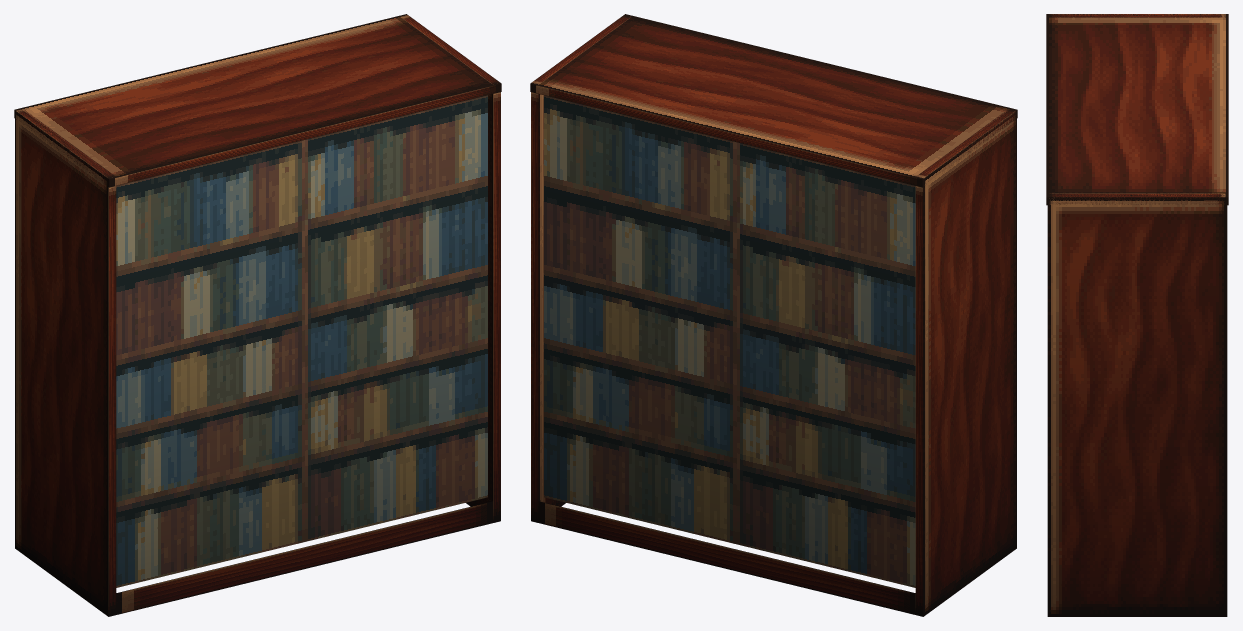
The model's file is prop_bookshelf-double-2.glb.
The picture shows the model from 3 angles, left to right: view 1: azimuth 30°, elevation 25°; view 2: azimuth 150°, elevation 25°; view 3: azimuth 270°, elevation 25°; orthographic projection. The views are drawn at different scales.
Parts seen in each view (by area): view 1: prop_bookshelf-double-2; view 2: prop_bookshelf-double-2; view 3: prop_bookshelf-double-2.
Part boxes in pixels (box(x1,y1,x2,y2)): prop_bookshelf-double-2: box(14, 14, 501, 616); prop_bookshelf-double-2: box(530, 14, 1017, 616); prop_bookshelf-double-2: box(1046, 14, 1228, 616).
Bounding box in the file's own units: 1.56 × 1.66 × 0.6552.
2 materials, 2 textured.
